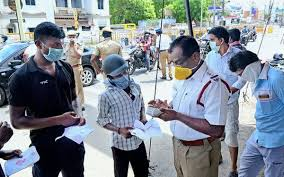Mask: (173, 62, 193, 80), (43, 46, 64, 62), (111, 76, 131, 89)
